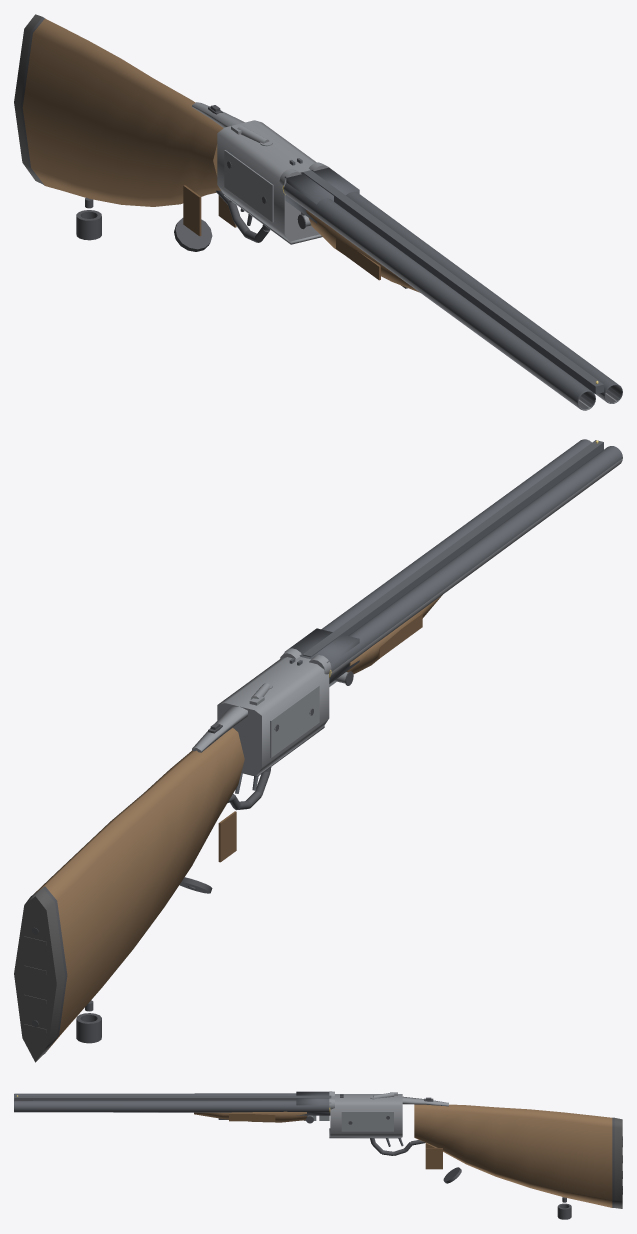
The model's file is doublebarrel.glb.
The picture shows the model from 3 angles, top to bottom: view 1: azimuth 30°, elevation 25°; view 2: azimuth 150°, elevation 25°; view 3: azimuth 270°, elevation 25°; orthographic projection. The views are drawn at different scales.
Visible parts, largest first — view 1: body; view 2: body; view 3: body.
Part boxes in pixels (<box>): body: <box>14,14,622,410</box>; body: <box>14,439,622,1062</box>; body: <box>14,1091,622,1219</box>.
Size of the model in its own units: 0.052 by 0.2333 by 1.05.
